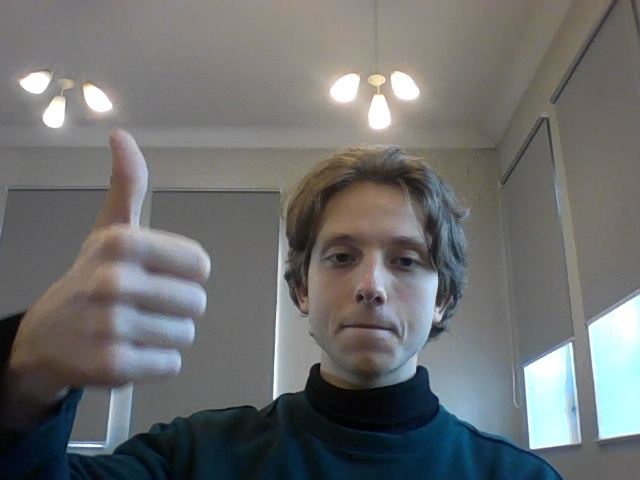thank you: (43, 127, 217, 387)
